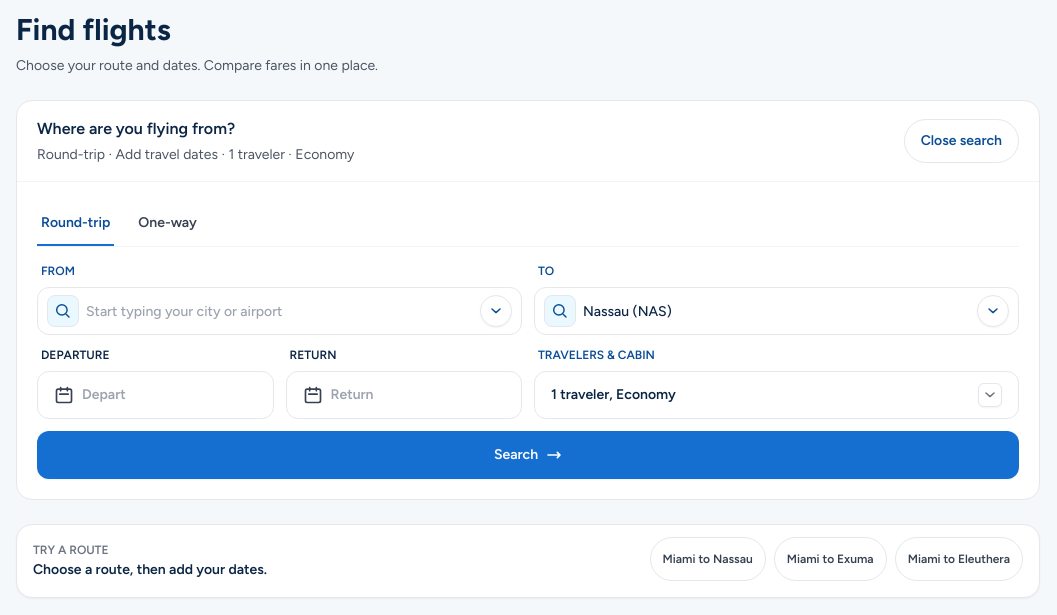
Scenario: FlightSearchClient marketplace layout › fresh visits wait for a chosen origin and dates
Expected: the dropdown labelled "From" is empty, [37,287,522,335]
Expected: the button with aria-label "Departure date: not set" reads "Depart", [37,371,274,419]
Click the button "Miami to Nassau": [708, 559] box [650,537,766,581]
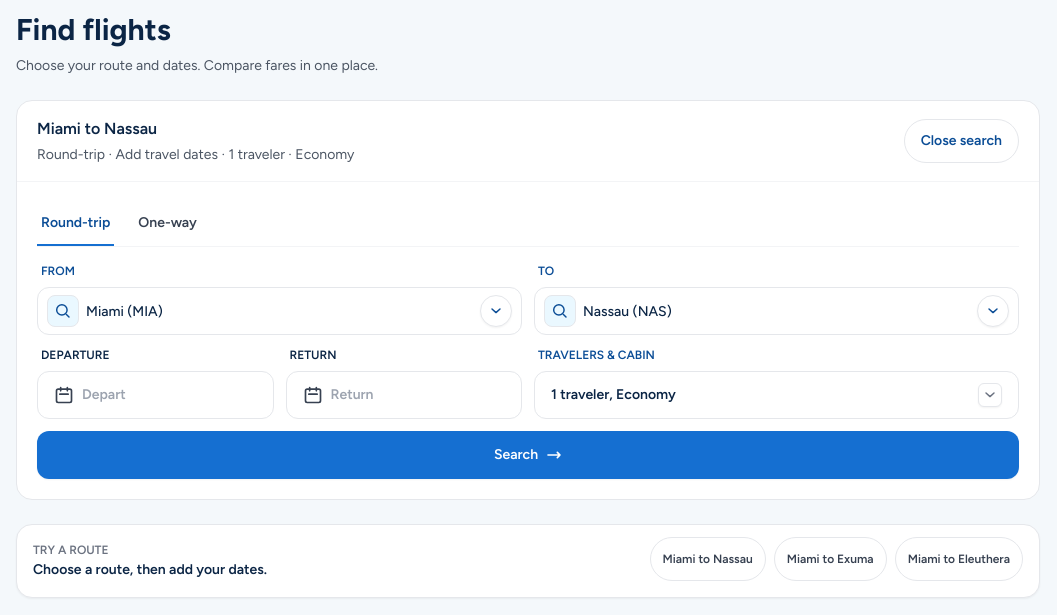
Expected: the dropdown labelled "From" holds "Miami (MIA)", [37,287,522,335]
